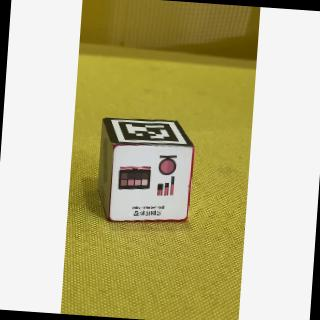Expired_Cosmetic: (106, 141, 199, 229)
